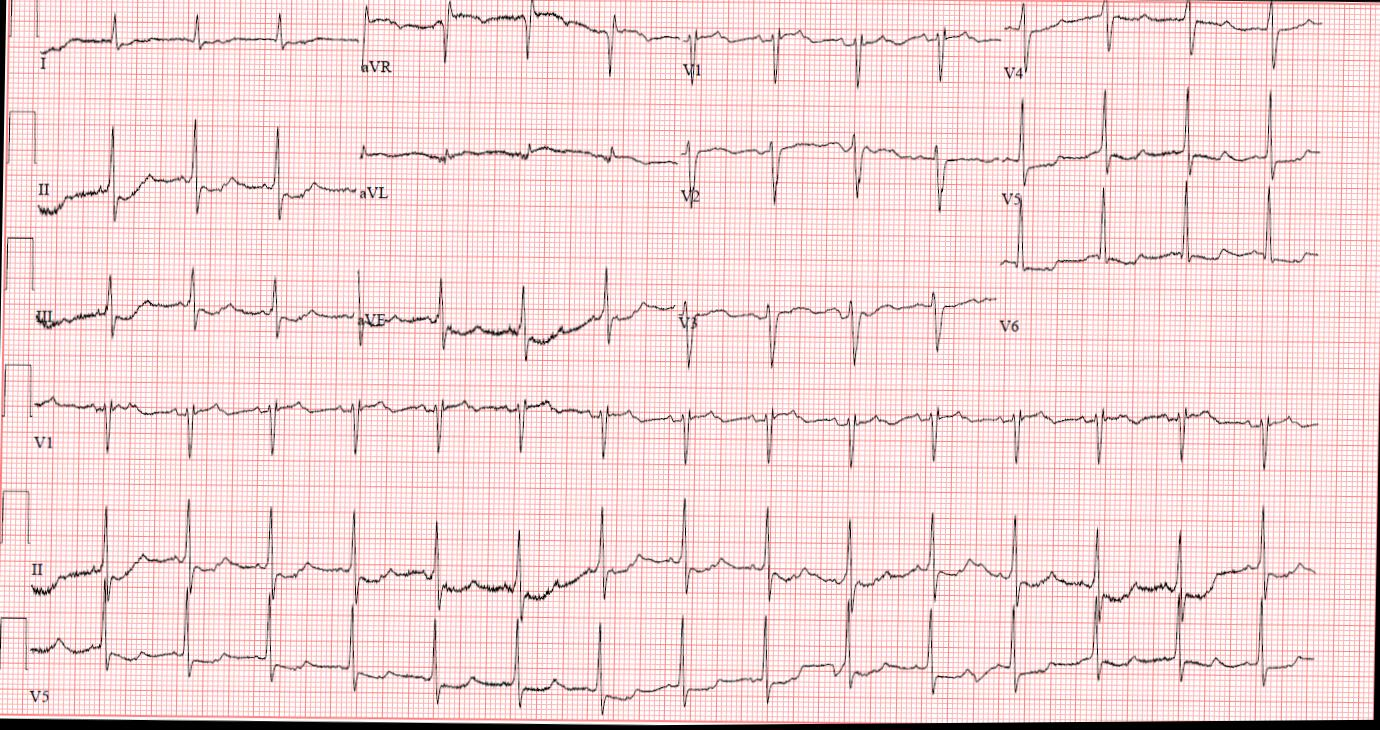Lead_I: (32, 0, 360, 98)
Lead_II: (36, 105, 361, 230)
Lead_III: (32, 236, 356, 366)
Lead_II_ext: (24, 481, 1328, 640)
Lead_V1: (672, 0, 1004, 114)
Lead_V2: (674, 112, 1004, 230)
Lead_V3: (676, 230, 1002, 386)
Lead_V4: (1002, 0, 1328, 91)
Lead_V5: (998, 82, 1330, 220)
Lead_V6: (993, 178, 1333, 351)
Lead_aVF: (354, 233, 677, 370)
Lead_aVL: (356, 105, 676, 225)
Lead_aVR: (356, 0, 674, 104)
